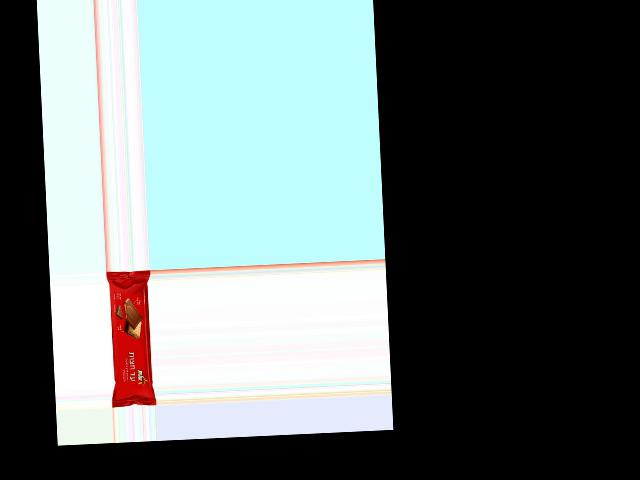chocolate: (105, 271, 156, 404)
